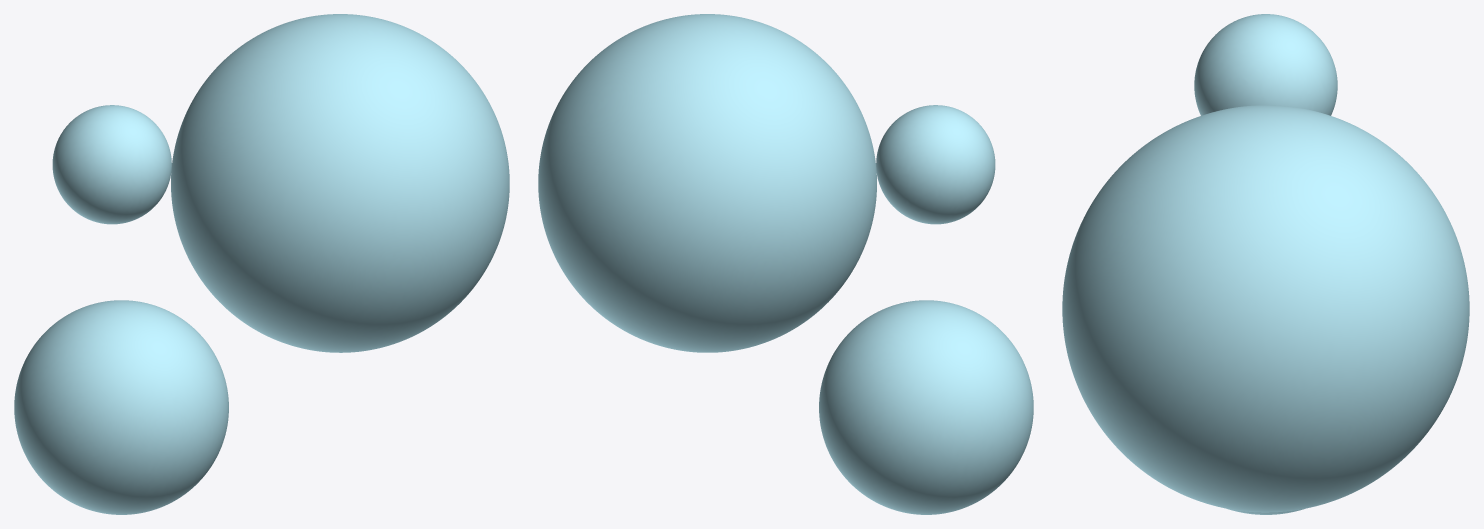
File: bubble.gltf
3 views of the same model, side by side, from view 1: azimuth 30°, elevation 25°; view 2: azimuth 150°, elevation 25°; view 3: azimuth 270°, elevation 25° (orthographic). The views are drawn at different scales.
Parts seen in each view (by area): view 1: Area (2); view 2: Area (2); view 3: Area (2).
Boxes of the visible parts, box(x1,y1,x2,y2) form: Area (2): box(14, 14, 509, 514); Area (2): box(538, 14, 1033, 514); Area (2): box(1062, 14, 1469, 514).
Bounding box in the file's own units: 222 × 195 × 142.
1 material, 1 textured.
